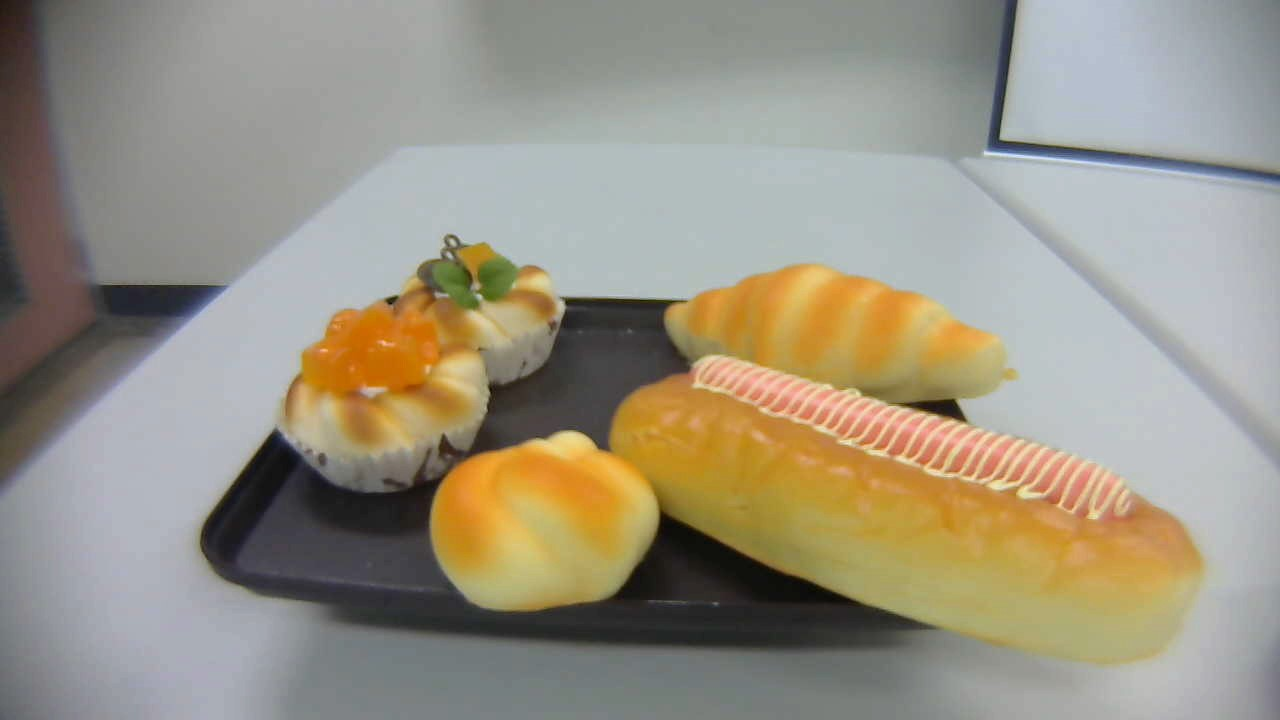croissant: (663, 262, 1019, 404)
fruit tart: (395, 234, 566, 385)
hot dog: (610, 355, 1205, 664)
mango tart: (278, 300, 485, 493)
twist bread: (429, 430, 660, 610)
